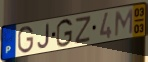4: (99, 11, 113, 41)
G: (56, 18, 74, 48), (17, 25, 34, 55)
J: (37, 22, 51, 49)
M: (113, 8, 134, 38)
Z: (74, 14, 93, 46)
